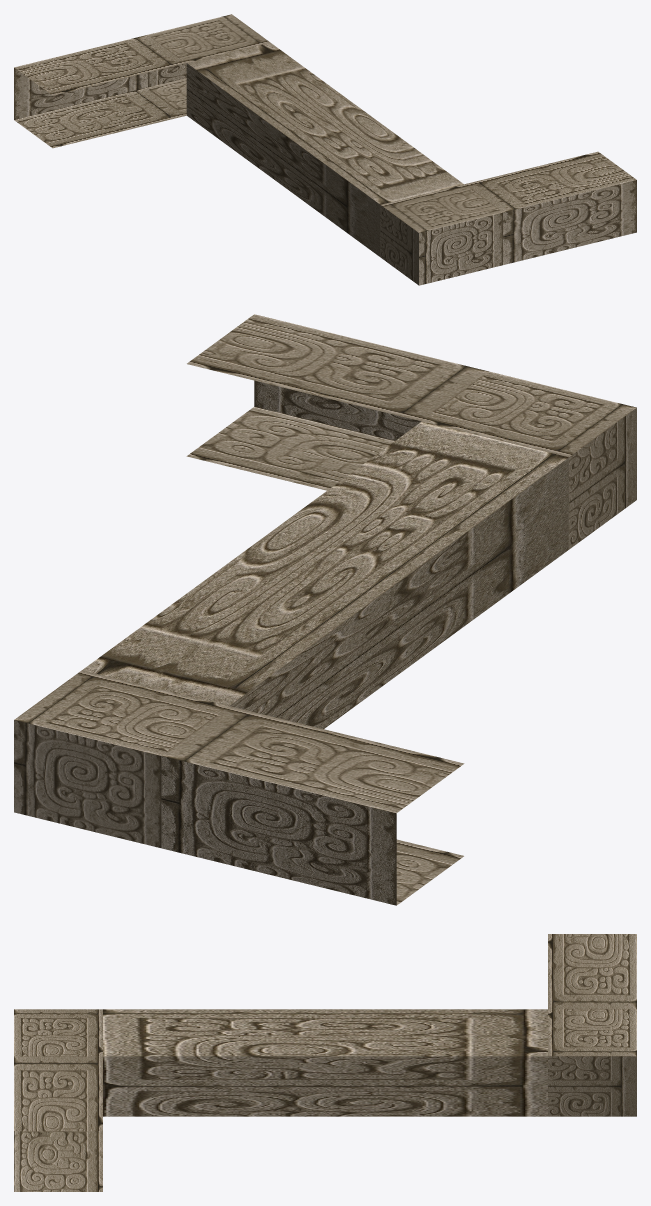
Rendered from corridort.glb.
3 renders of one model, top to bottom at view 1: azimuth 30°, elevation 25°; view 2: azimuth 150°, elevation 25°; view 3: azimuth 270°, elevation 25°, orthographic. The views are drawn at different scales.
Parts seen in each view (by area): view 1: Cube; view 2: Cube; view 3: Cube.
Part boxes in pixels (box(x1,y1,x2,y2)): Cube: box(14, 14, 636, 285); Cube: box(14, 314, 636, 905); Cube: box(14, 934, 636, 1191).
Bounding box in the file's own units: 21 × 3 × 28.
Materials: 2 (2 with a texture image).
